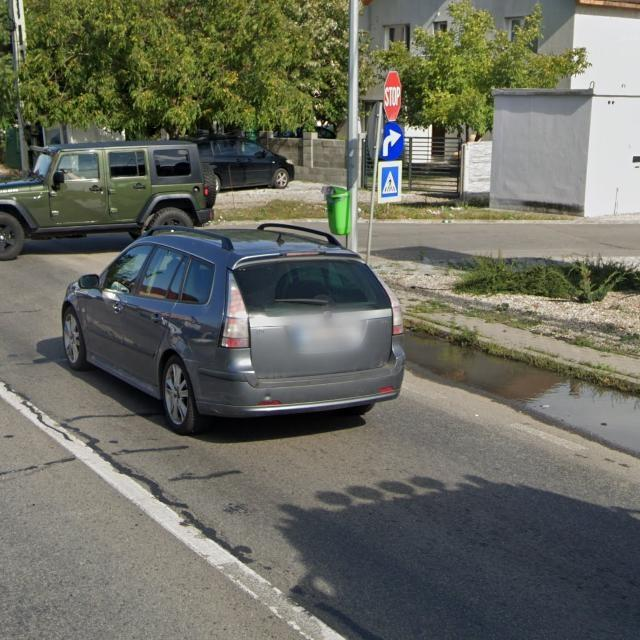info_crosswalk: (378, 161, 403, 201)
prio_stop: (384, 71, 403, 121)
